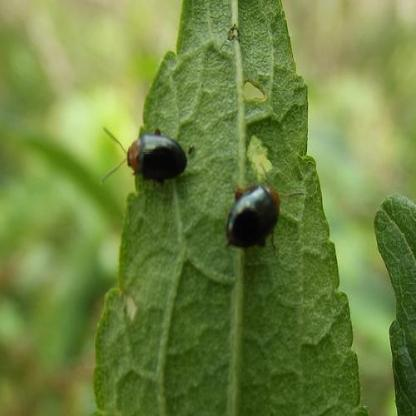beetle: (102, 121, 184, 194), (226, 176, 289, 266)
